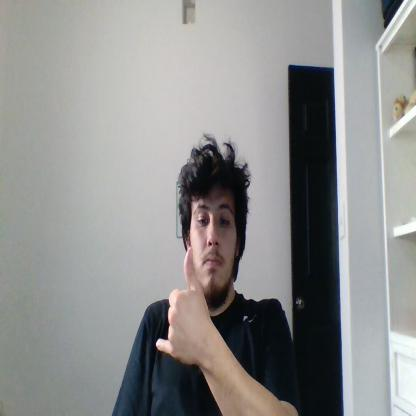Y: (157, 245, 209, 364)
